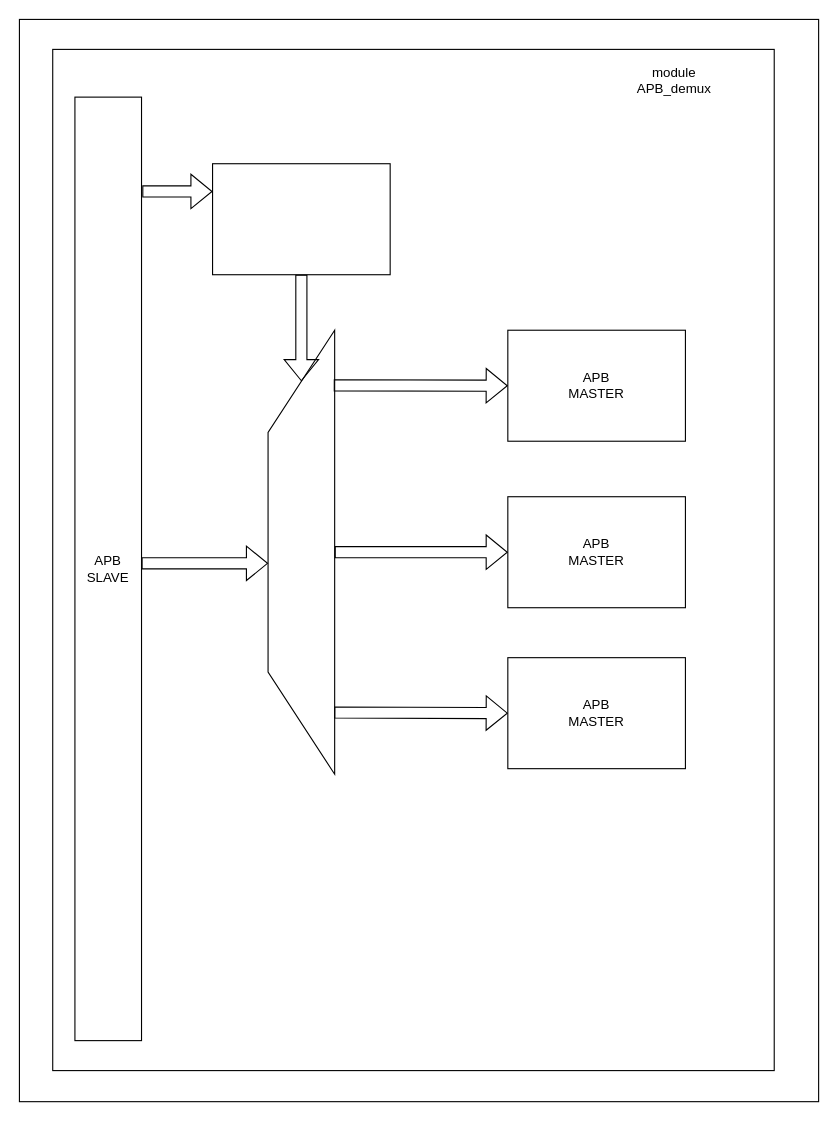
This 838x1121 diagram has some shape labels left out. The shapes that lost their labels are listed below. From the top down, each one's centre as x and y in pixels, then its label:
At point (300, 219): "Decoder".
At point (301, 551): "Demux".
